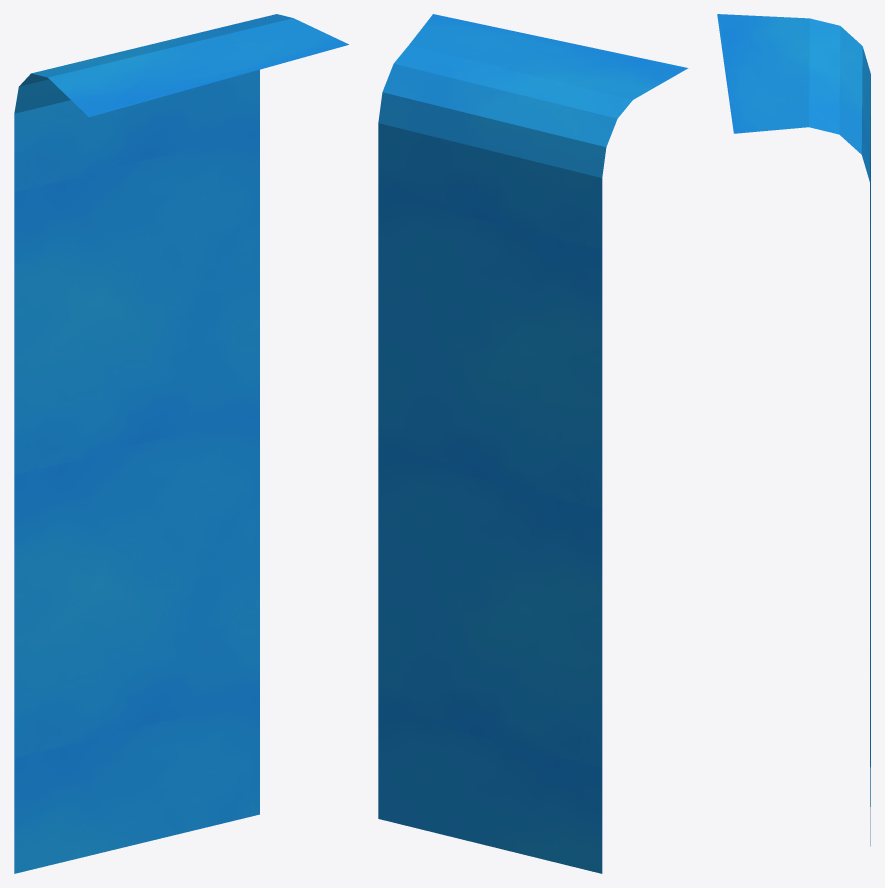
Rendered from Water_Fall_01_Art 1.fbx.
3 renders of one model, left to right at view 1: azimuth 30°, elevation 25°; view 2: azimuth 150°, elevation 25°; view 3: azimuth 270°, elevation 25°, orthographic. The views are drawn at different scales.
Visible parts, largest first — view 1: Water_Fall_01_Art; view 2: Water_Fall_01_Art; view 3: Water_Fall_01_Art.
Boxes of the visible parts, x1,y1,x2,y2 form: Water_Fall_01_Art: (14, 14, 348, 873); Water_Fall_01_Art: (378, 14, 688, 873); Water_Fall_01_Art: (717, 14, 870, 846).
Size of the model in its own units: 5.12 by 14.87 by 2.77.
